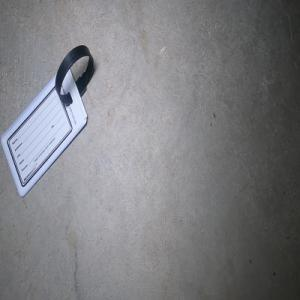LuggageTag: (0, 43, 95, 198)
